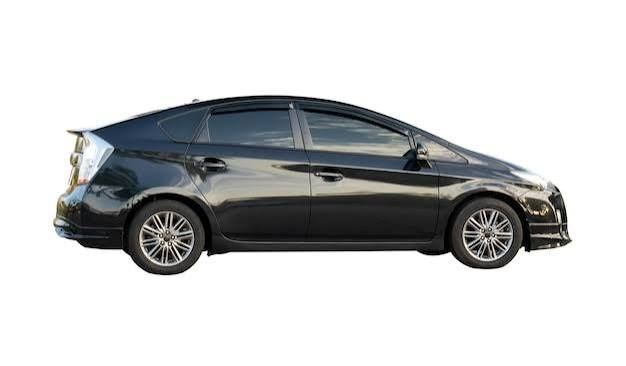car: (53, 100, 574, 268)
